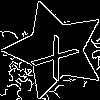X: (30, 25, 87, 82)
